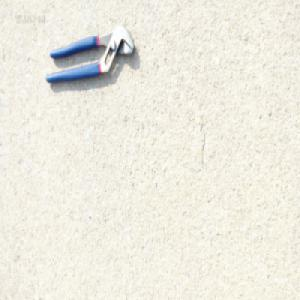Pliers: (44, 22, 135, 85)
